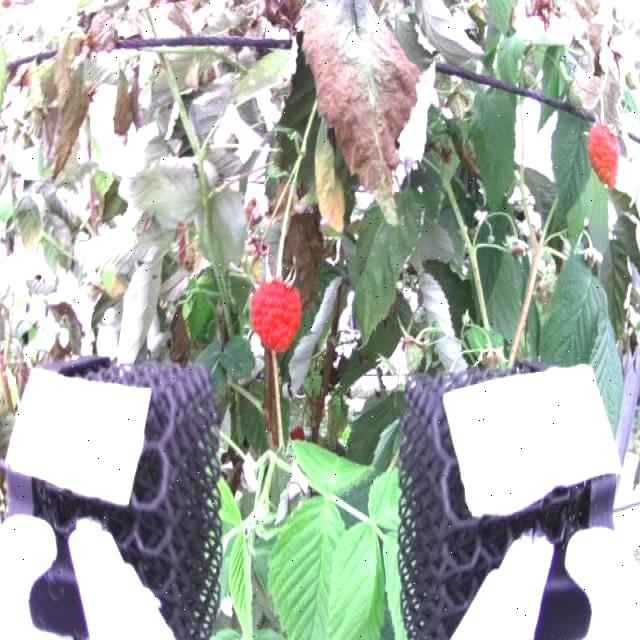Riped berries: (248, 264, 307, 356), (582, 120, 628, 187)
